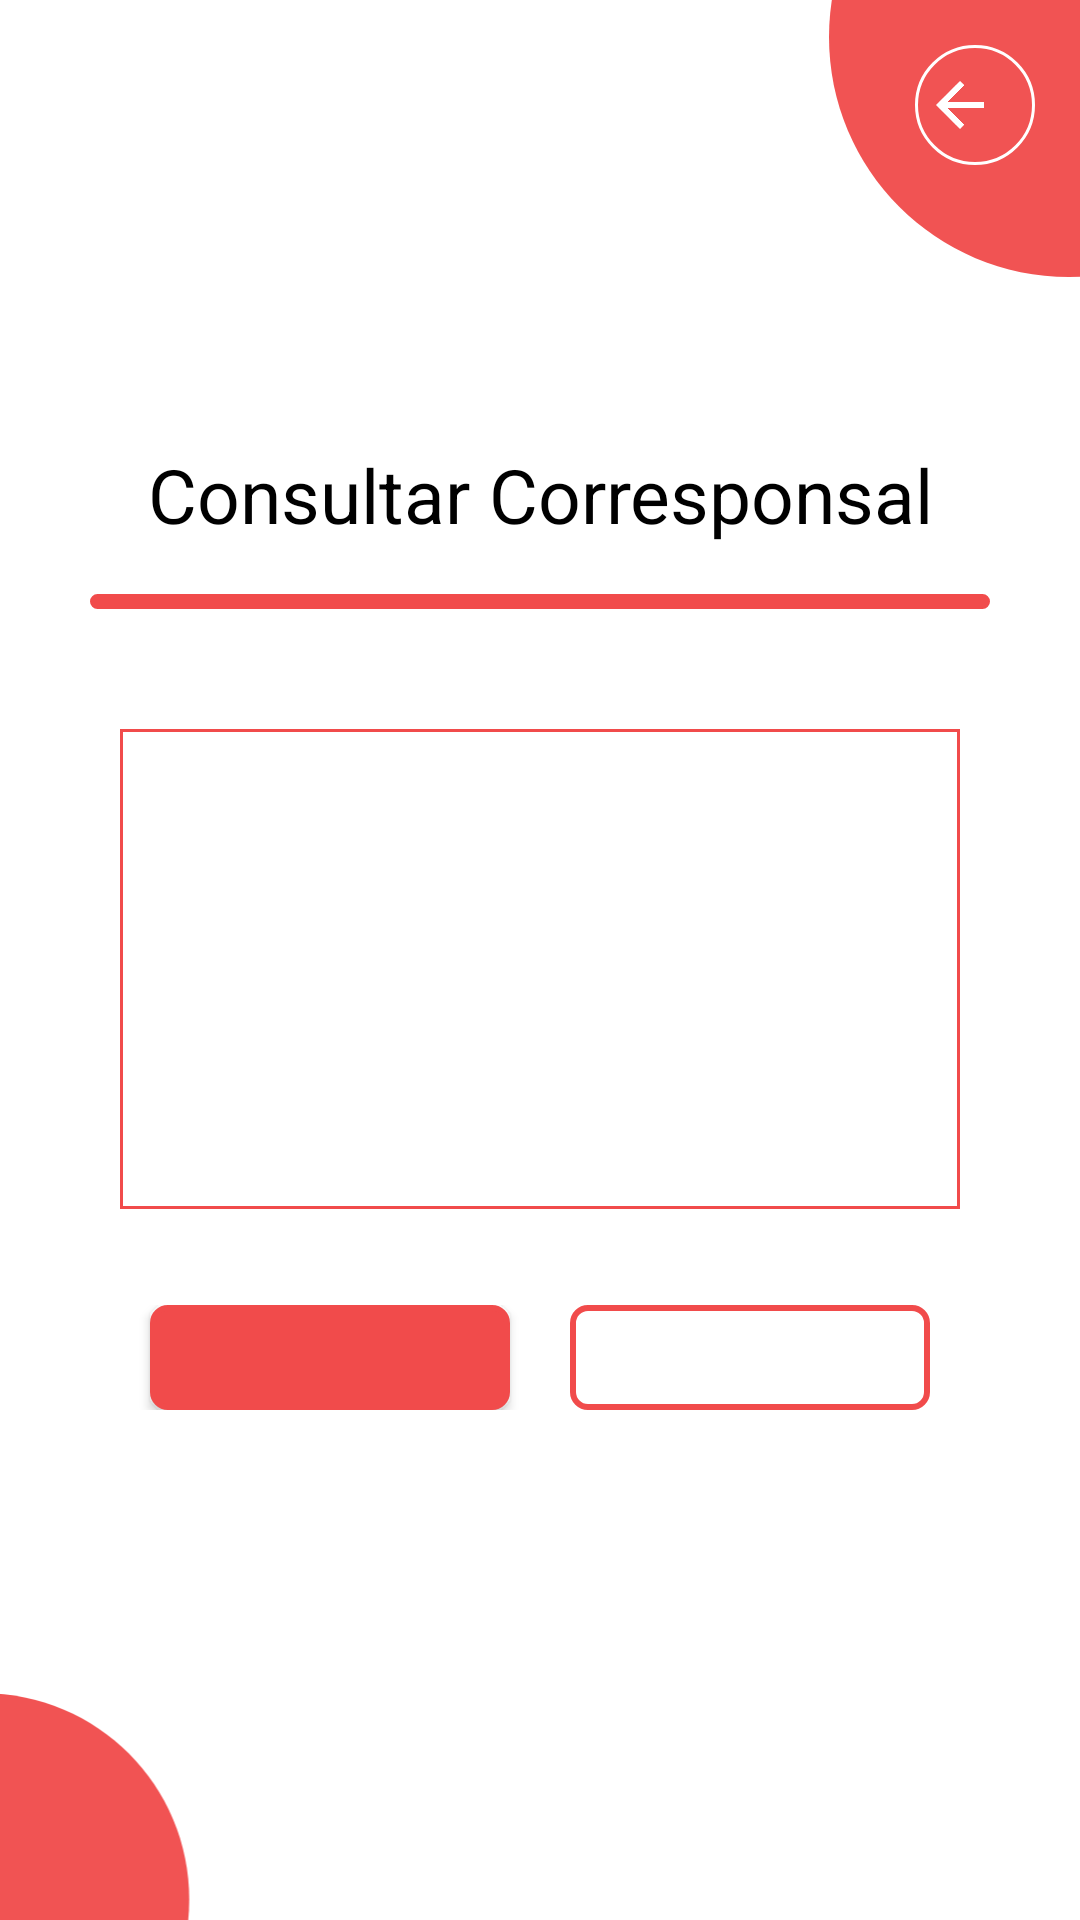

Screen size 1080px x 1920px. Icon name, then its center in pixels as point (x, y):
back: point (975, 105)
